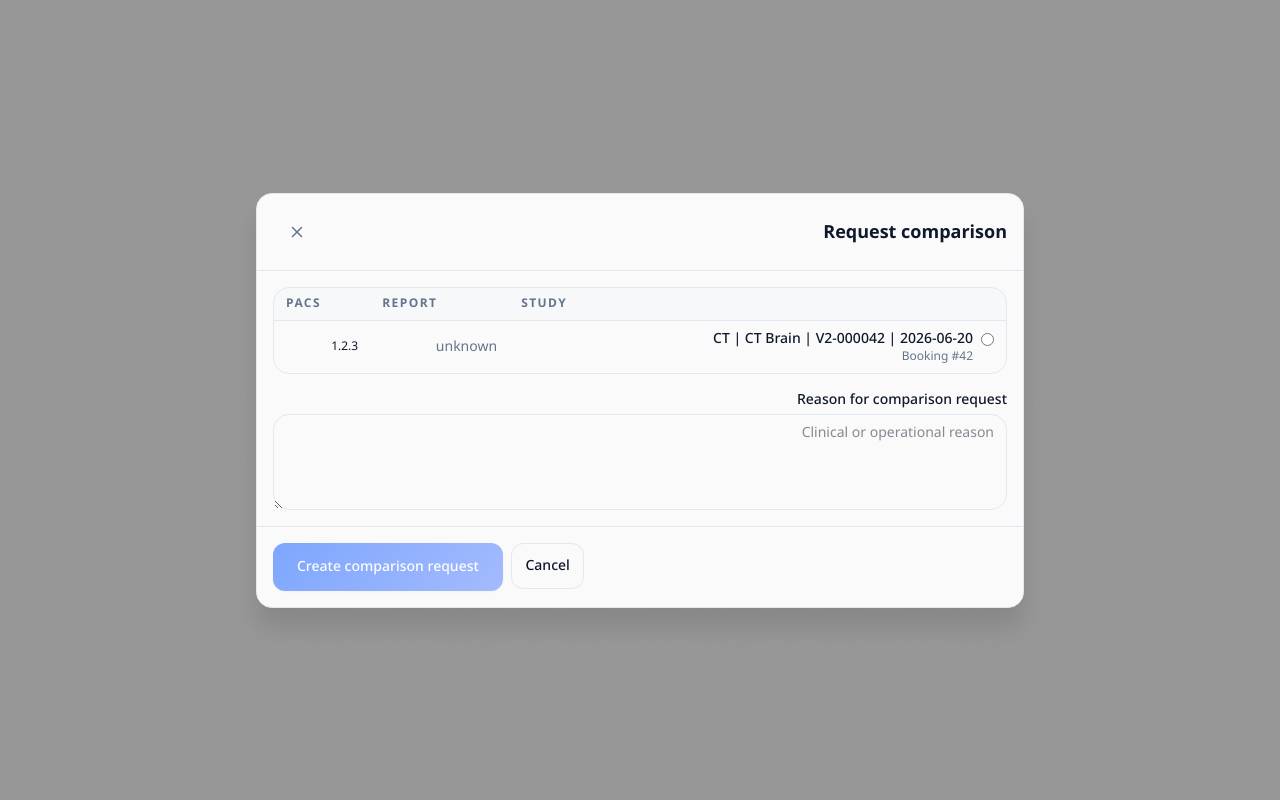
Scenario: RequestComparisonModal › shows the planned reporting-doctor selector to supervisors
Click the radio button labelled "2026-06-20 | CT | CT Brain | V2-000042 Booking #42": click(988, 339) [981, 332, 994, 346]
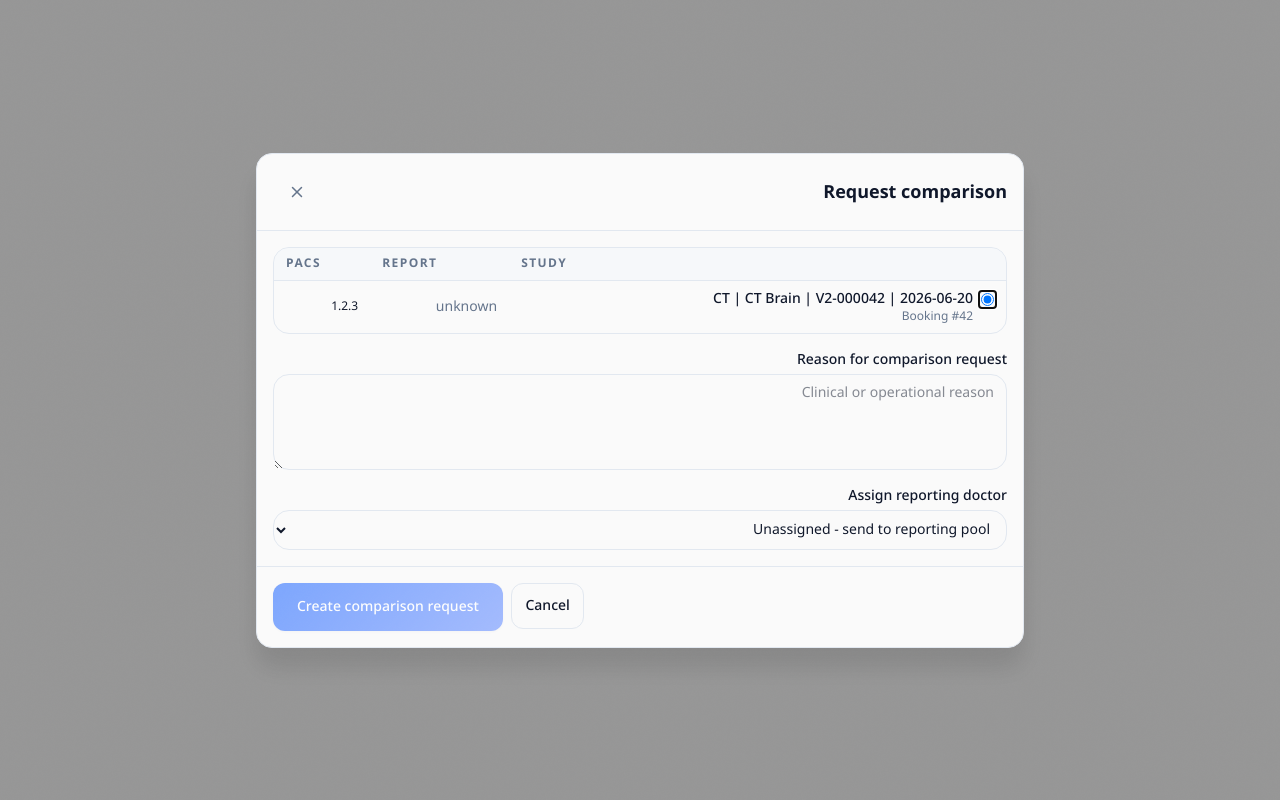
Check: the dropdown labelled "Assign reporting doctor" is shown, box [273, 510, 1007, 550]
